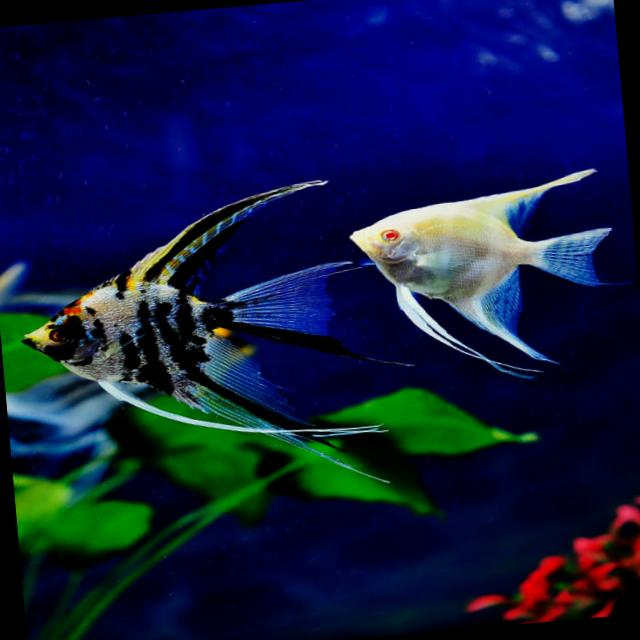AngelFish: (14, 176, 368, 500), (346, 152, 620, 406)
